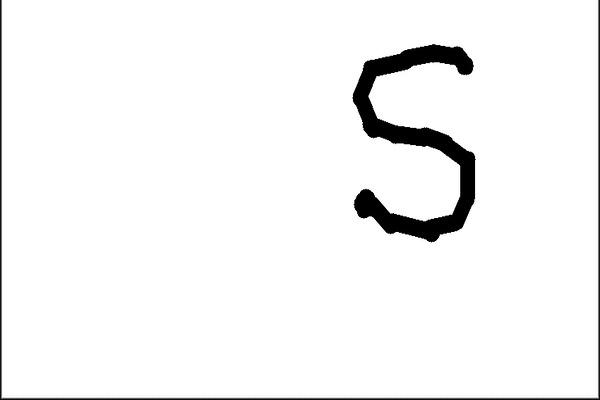S: (343, 37, 489, 254)
